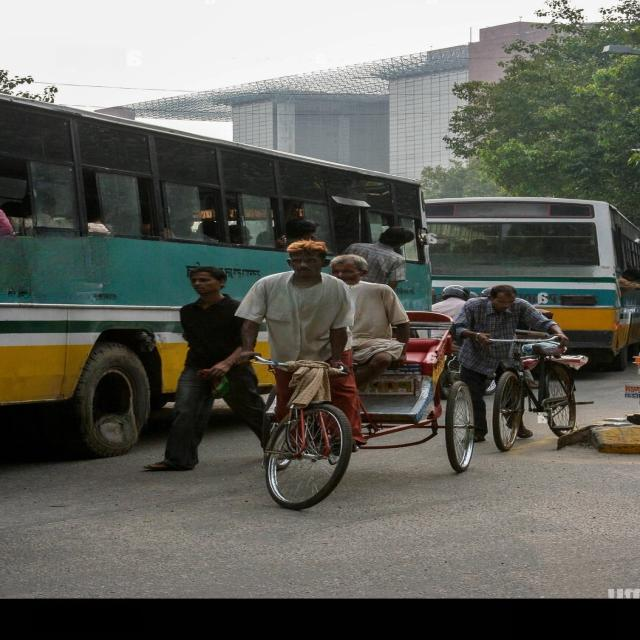bicycle: (237, 240, 473, 509), (490, 338, 588, 451)
bus: (0, 95, 431, 456), (425, 196, 640, 368)
